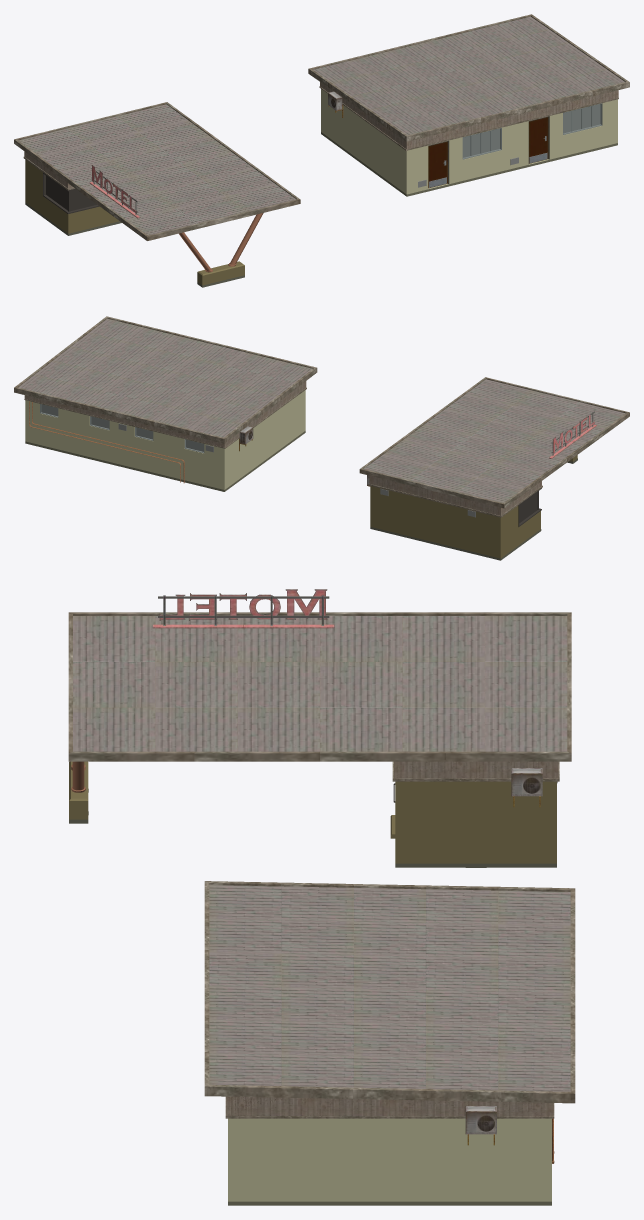
The model's file is modular-motel.lod1.glb.
The picture shows the model from 3 angles, top to bottom: view 1: azimuth 30°, elevation 25°; view 2: azimuth 150°, elevation 25°; view 3: azimuth 270°, elevation 25°; orthographic projection. The views are drawn at different scales.
Visible parts, largest first — view 1: ReceptionCabinRoof_atlasMaterial01_0, ReceptionCabinWindow_ReceptionCabinWindows_0, simpleWoodenDoor_simpleWoodenDoor_0, motelSign_motelSign_0; view 2: ReceptionCabinRoof_atlasMaterial01_0, ReceptionCabinWindow_ReceptionCabinWindows_0, motelSign_motelSign_0, rustyPipe_rusty.001_0; view 3: ReceptionCabinRoof_atlasMaterial01_0, ReceptionCabinWindow_ReceptionCabinWindows_0, motelSign_motelSign_0, airconditioning.Low.011_air conditioning.004_0.
Part boxes in pixels (x1,y1,x2,y2): ReceptionCabinRoof_atlasMaterial01_0: (14,14,629,240); ReceptionCabinWindow_ReceptionCabinWindows_0: (25,89,617,287); simpleWoodenDoor_simpleWoodenDoor_0: (428,116,549,188); motelSign_motelSign_0: (89,165,140,218); ReceptionCabinRoof_atlasMaterial01_0: (14,316,629,517); ReceptionCabinWindow_ReceptionCabinWindows_0: (25,390,577,560); motelSign_motelSign_0: (549,411,596,458); rustyPipe_rusty.001_0: (29,401,184,483); ReceptionCabinRoof_atlasMaterial01_0: (68,612,575,1118); ReceptionCabinWindow_ReceptionCabinWindows_0: (69,761,557,1205); motelSign_motelSign_0: (152,589,334,628); airconditioning.Low.011_air conditioning.004_0: (465,768,542,1145).
Size of the model in its own units: 24.49 by 3.77 by 10.94.
Materials: 6 (5 with a texture image).
